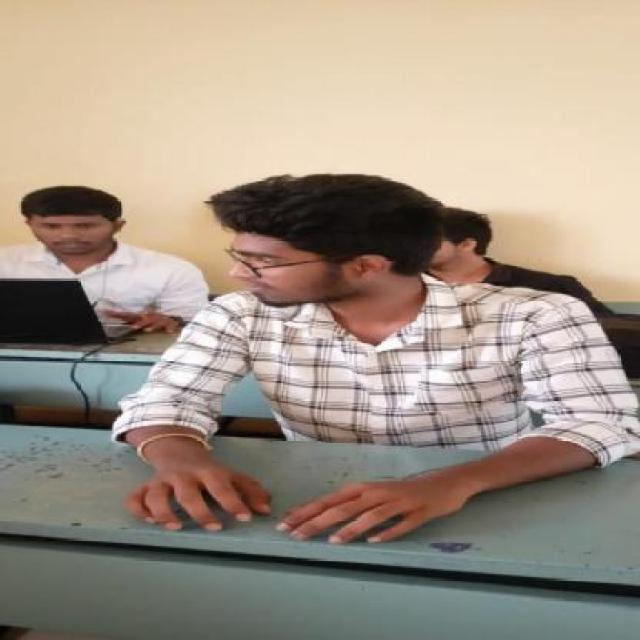cheating: (179, 147, 469, 339)
